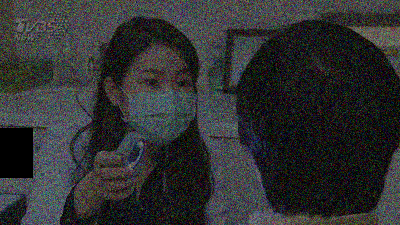with_mask: (125, 66, 200, 148)
